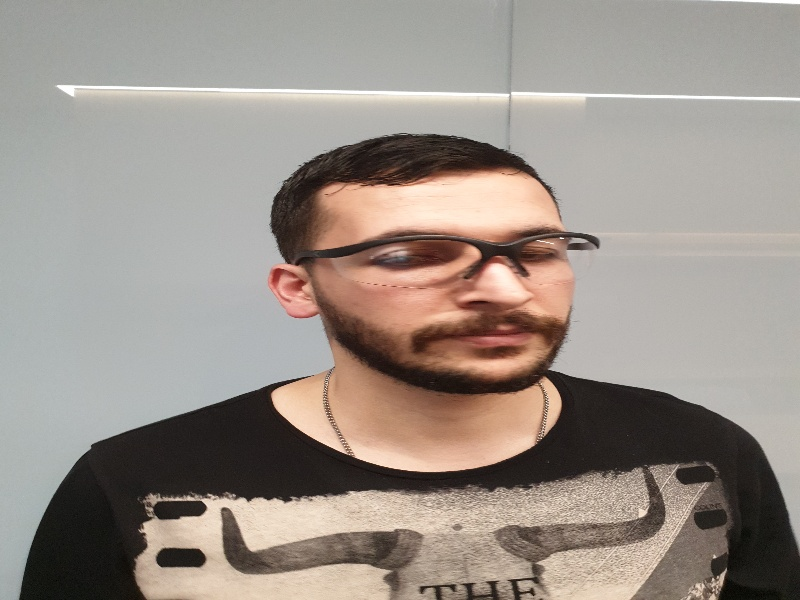Gozluk: (297, 233, 604, 284)
